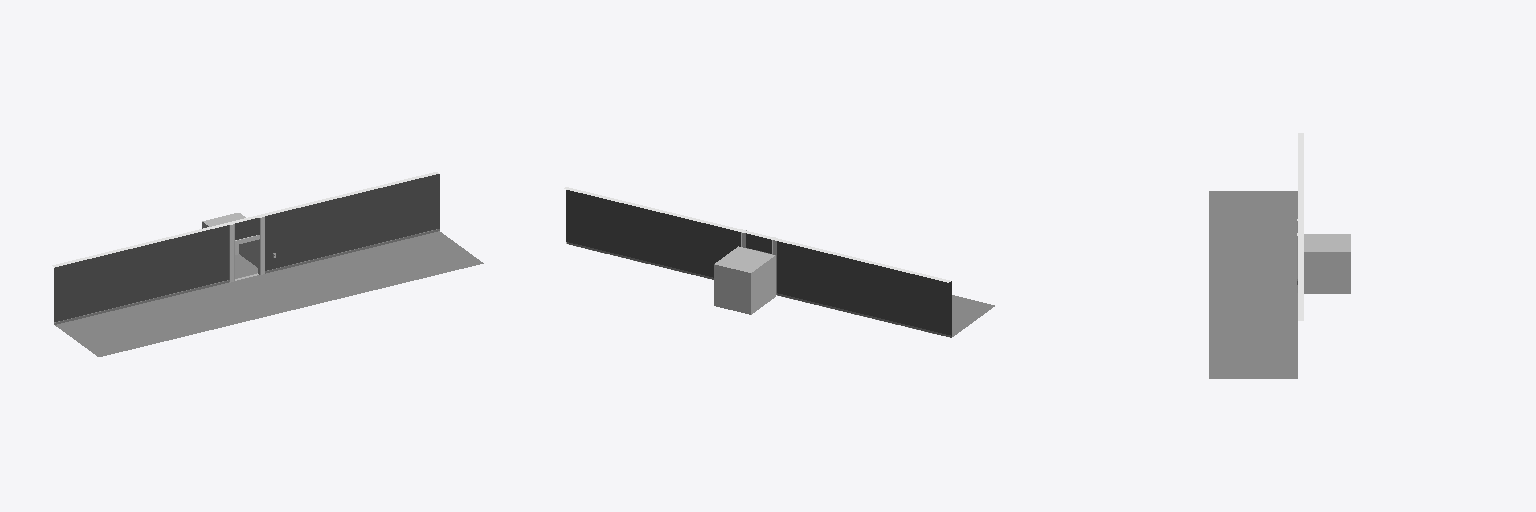
Rendered from elevator_scene.obj.
3 renders of one model, left to right at view 1: azimuth 30°, elevation 25°; view 2: azimuth 150°, elevation 25°; view 3: azimuth 270°, elevation 25°, orthographic.
Parts seen in each view (by area): view 1: Hallway; view 2: Hallway; view 3: Hallway.
Boxes of the visible parts, x1=… form: Hallway: x1=52, y1=172, x2=483, y2=356; Hallway: x1=564, y1=187, x2=994, y2=337; Hallway: x1=1209, y1=133, x2=1350, y2=378.
Bounding box in the file's own units: 40 × 5.72 × 12.75.